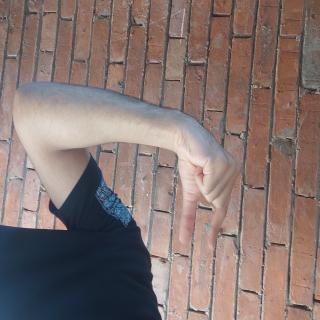DELL: (78, 110, 194, 224)
